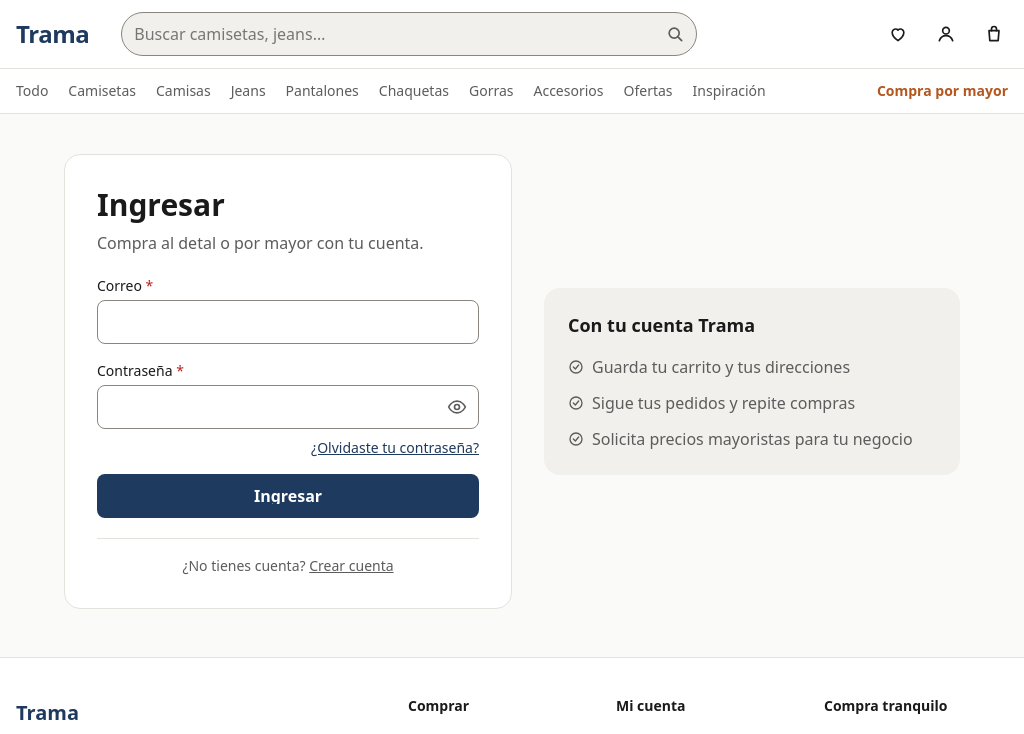
Scenario: App › muestra error con credenciales inválidas
This screenshot has width=1024, height=734.
Type "nadie@trama.test" into the field labelled "Correo *".
click(288, 322); type("nadie@trama.test")  # box [97, 300, 479, 344]
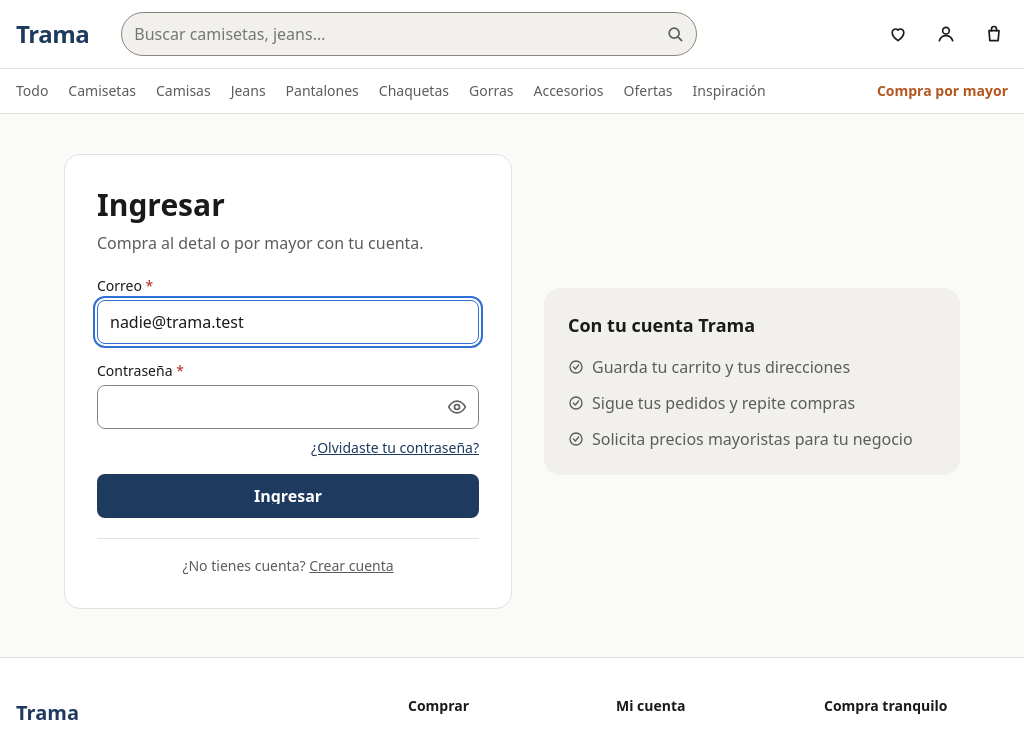
Type "incorrecta" into the password field labelled "Contraseña *".
click(288, 407); type("incorrecta")  # box [97, 385, 479, 429]
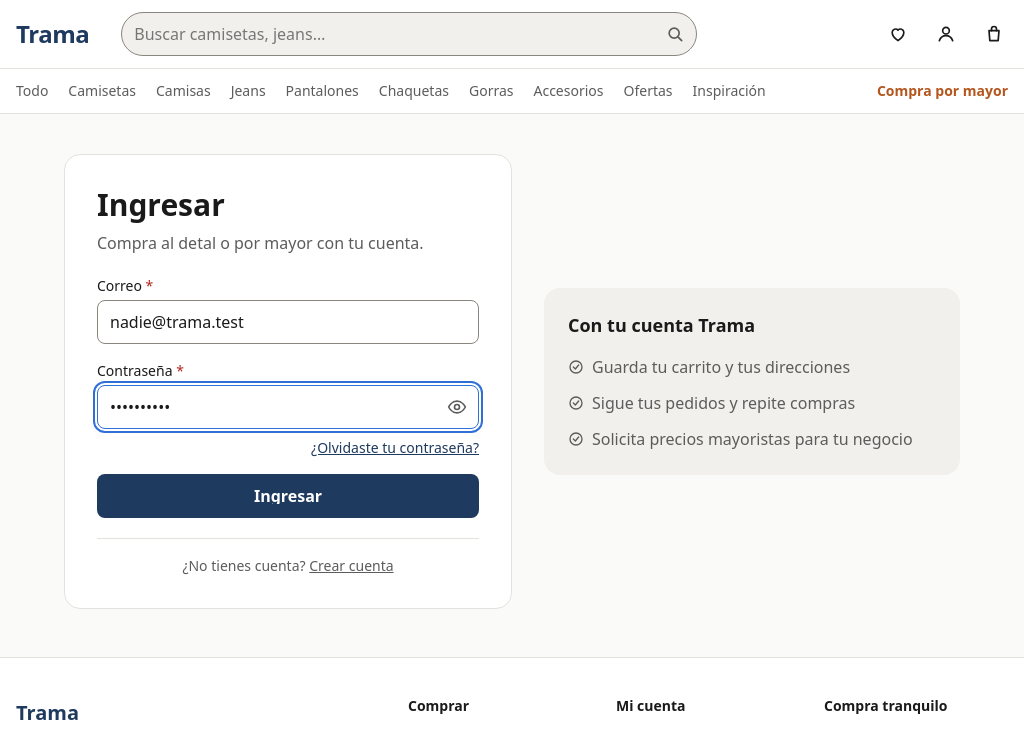
Click the button "Ingresar".
click(288, 496)  # box [97, 474, 479, 518]
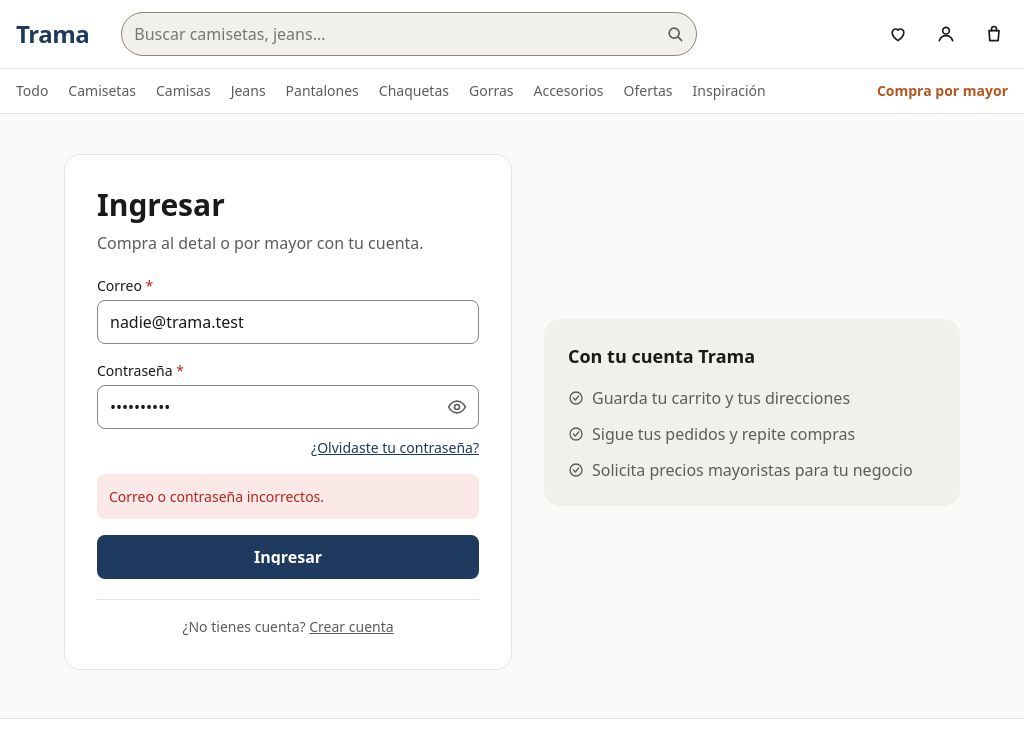
Check: the message reads "Correo o contraseña incorrectos.", box [109, 487, 324, 506]
